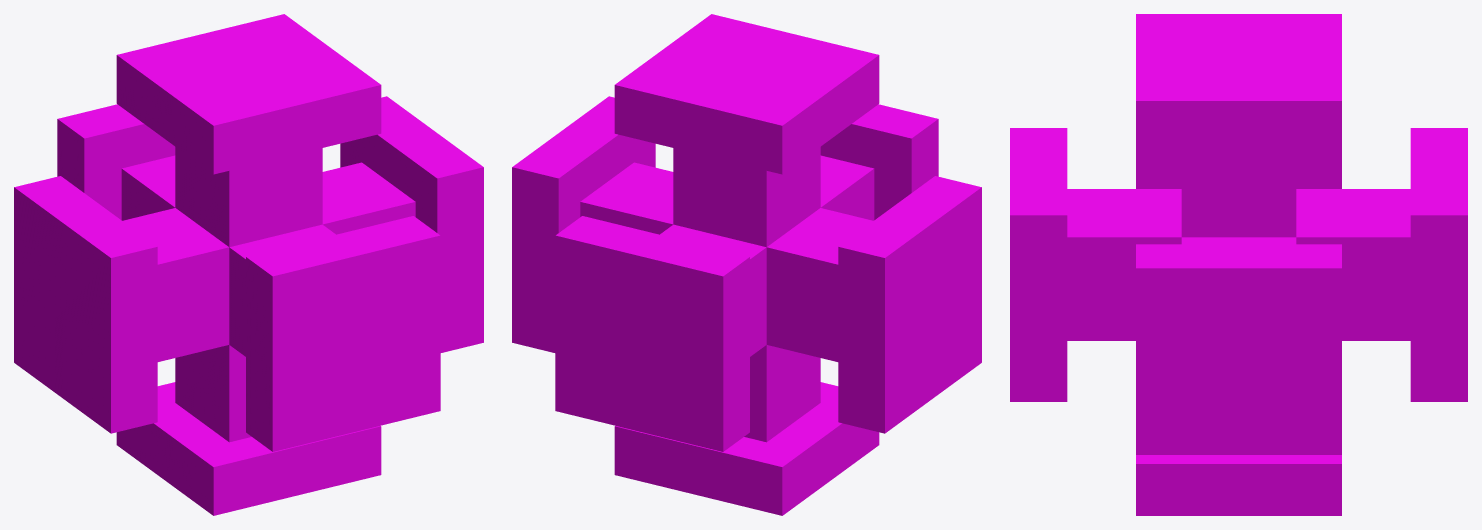
File: pipes.obj
3 views of the same model, side by side, from view 1: azimuth 30°, elevation 25°; view 2: azimuth 150°, elevation 25°; view 3: azimuth 270°, elevation 25° (orthographic). The views are drawn at different scales.
Visible parts, largest first — view 1: FlangeMY_pfmdl, FlangeMX_pfmdl, FlangePZ_pfmdl, FlangeMZ_pfmdl, FlangePX_pfmdl, FlangePY_pfmdl; view 2: FlangePY_pfmdl, FlangeMX_pfmdl, FlangePZ_pfmdl, FlangeMZ_pfmdl, FlangePX_pfmdl, FlangeMY_pfmdl; view 3: FlangePX_pfmdl, FlangePZ_pfmdl, FlangePY_pfmdl, FlangeMY_pfmdl, FlangeMZ_pfmdl, FlangeMX_pfmdl.
Boxes of the visible parts, left/top/right/bottom form: FlangeMY_pfmdl: left=229, top=216, right=440, bottom=451; FlangeMX_pfmdl: left=14, top=176, right=229, bottom=433; FlangePZ_pfmdl: left=116, top=14, right=381, bottom=247; FlangeMZ_pfmdl: left=116, top=345, right=381, bottom=515; FlangePX_pfmdl: left=322, top=96, right=483, bottom=352; FlangePY_pfmdl: left=57, top=104, right=175, bottom=220; FlangePY_pfmdl: left=555, top=216, right=766, bottom=451; FlangeMX_pfmdl: left=766, top=176, right=981, bottom=433; FlangePZ_pfmdl: left=614, top=14, right=879, bottom=247; FlangeMZ_pfmdl: left=614, top=345, right=879, bottom=515; FlangePX_pfmdl: left=512, top=96, right=673, bottom=352; FlangeMY_pfmdl: left=820, top=104, right=938, bottom=220; FlangePX_pfmdl: left=1136, top=237, right=1341, bottom=454; FlangePZ_pfmdl: left=1136, top=14, right=1341, bottom=237; FlangePY_pfmdl: left=1296, top=128, right=1467, bottom=401; FlangeMY_pfmdl: left=1010, top=128, right=1181, bottom=401; FlangeMZ_pfmdl: left=1136, top=455, right=1341, bottom=515; FlangeMX_pfmdl: left=1136, top=153, right=1341, bottom=188.
Bounding box in the file's own units: 1 × 1 × 1.
